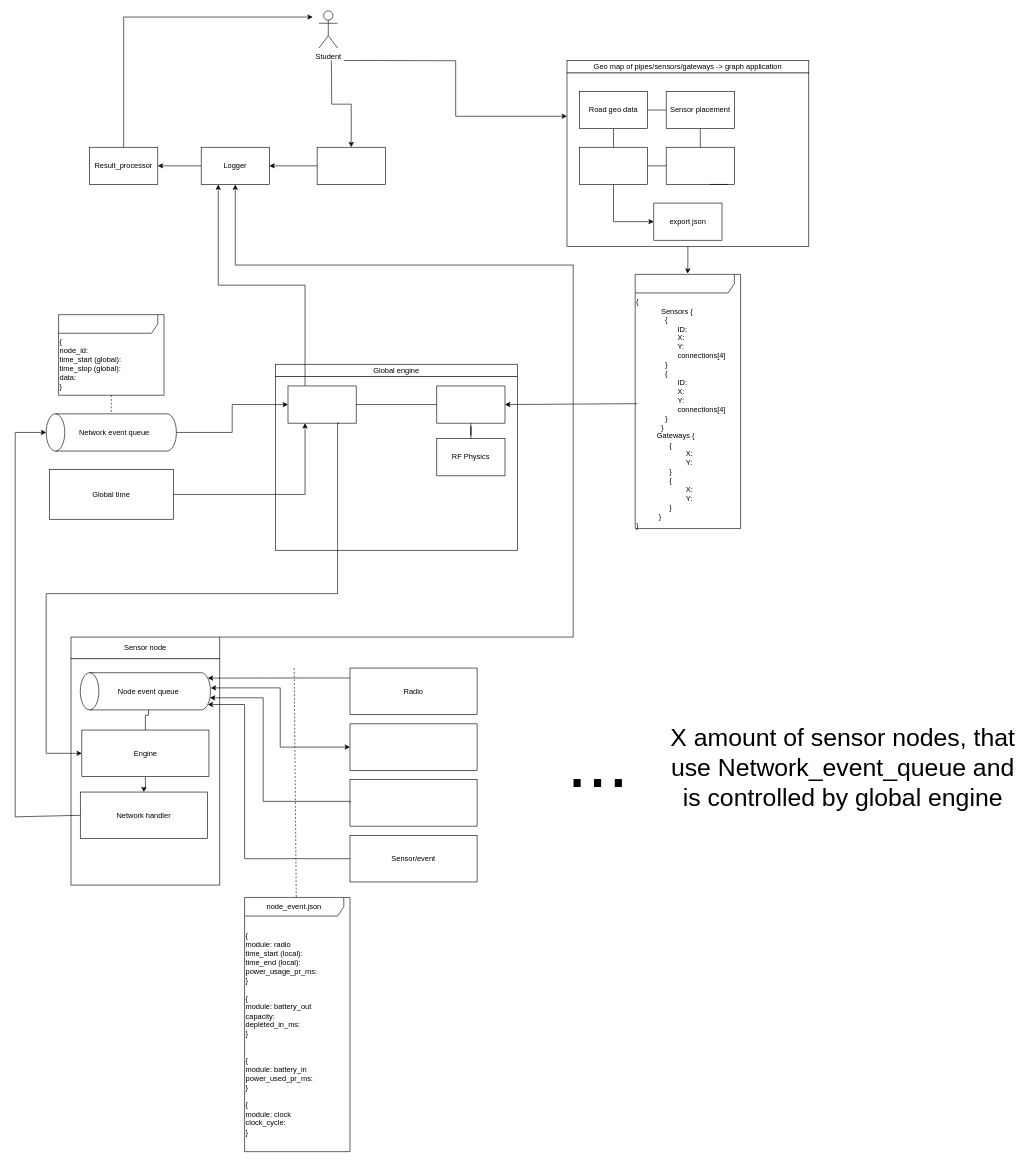
The diagram is 1030 pixels wide and 1163 high, and some of its shapes have lost their labels. Here are the shapes that lost their labels. From the top down, the box of each, then its label:
(317, 147, 385, 184): Simulator_config
(579, 147, 648, 184): Plotter
(666, 147, 734, 184): Gateway placement
(58, 314, 164, 395): network_event.json
(287, 385, 356, 423): Event handler
(436, 385, 505, 423): Network
(635, 274, 741, 529): Network_map.json
(349, 723, 477, 770): Battery
(349, 779, 477, 826): Local time (clock based)
